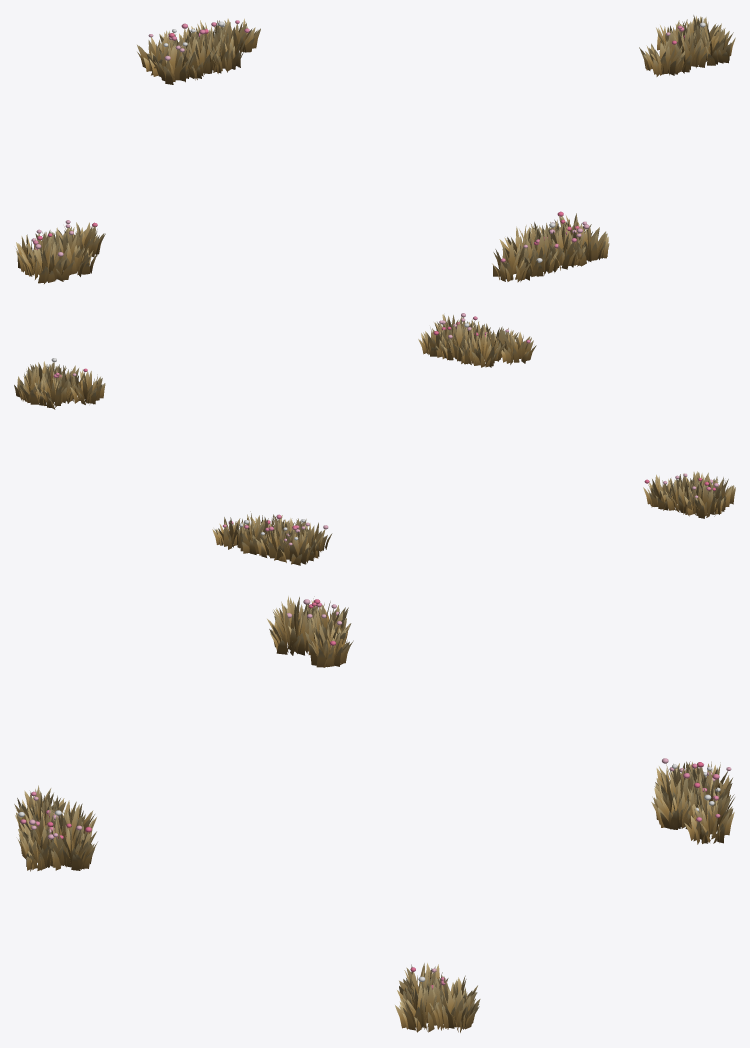
Rendered from icefloes_grass.glb.
3 renders of one model, top to bottom at view 1: azimuth 30°, elevation 25°; view 2: azimuth 150°, elevation 25°; view 3: azimuth 270°, elevation 25°, orthographic. The views are drawn at different scales.
Visible parts, largest first — view 1: Grass_3_14, Grass_15_2, Grass_30_10, Grass_31_10, Grass_19_22, Grass_18_22, Grass_16_2, Grass_17_22, Grass_20_22, Grass_32_10, Grass_17_2, Grass_4_14 (+8 smaller); view 2: Grass_18_21, Grass_3_13, Grass_4_13, Grass_31_9, Grass_15_1, Grass_16_1, Grass_19_21, Grass_17_22, Grass_17_1, Grass_30_10, Grass_18_1, Grass_32_9 (+6 smaller); view 3: Grass_32_10, Grass_20_21, Grass_32_9, Grass_18_1, Grass_5_13, Grass_17_2, Grass_4_14, Grass_20_22, Grass_17_1, Grass_3_14, Grass_4_13, Grass_16_2 (+1 smaller).
Boxes of the visible parts, <box> form: Grass_3_14: <box>19,232,73,283</box>; Grass_15_2: <box>146,36,195,84</box>; Grass_30_10: <box>639,37,691,76</box>; Grass_31_10: <box>666,24,711,72</box>; Grass_19_22: <box>540,219,587,270</box>; Grass_18_22: <box>517,231,563,276</box>; Grass_16_2: <box>179,31,222,80</box>; Grass_17_22: <box>492,241,533,282</box>; Grass_20_22: <box>564,223,609,266</box>; Grass_32_10: <box>696,18,735,65</box>; Grass_17_2: <box>199,26,246,73</box>; Grass_4_14: <box>51,231,96,276</box>; Grass_18_21: <box>460,328,504,367</box>; Grass_3_13: <box>684,482,724,518</box>; Grass_4_13: <box>660,473,702,514</box>; Grass_31_9: <box>34,367,74,409</box>; Grass_15_1: <box>277,524,318,565</box>; Grass_16_1: <box>256,519,297,560</box>; Grass_19_21: <box>439,321,476,363</box>; Grass_17_22: <box>494,329,536,364</box>; Grass_17_1: <box>236,511,271,554</box>; Grass_30_10: <box>69,369,105,404</box>; Grass_18_1: <box>212,517,256,549</box>; Grass_32_9: <box>14,366,48,404</box>; Grass_32_10: <box>395,976,442,1032</box>; Grass_20_21: <box>46,820,97,870</box>; Grass_32_9: <box>429,981,480,1032</box>; Grass_18_1: <box>684,794,734,844</box>; Grass_5_13: <box>305,621,353,667</box>; Grass_17_2: <box>651,773,699,829</box>; Grass_4_14: <box>269,606,316,655</box>; Grass_20_22: <box>18,817,63,871</box>; Grass_17_1: <box>687,778,734,824</box>; Grass_3_14: <box>267,596,316,637</box>; Grass_4_13: <box>307,605,350,654</box>; Grass_16_2: <box>654,764,697,805</box>.
Size of the model in its own units: 15.31 by 0.7287 by 11.33.
